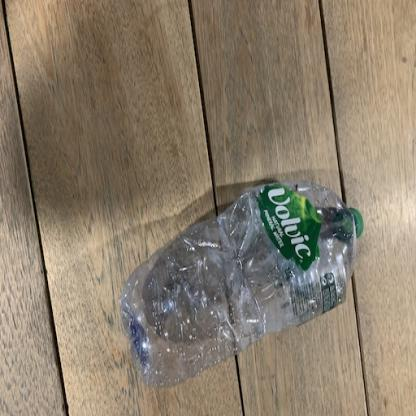trash: (119, 177, 364, 396)
